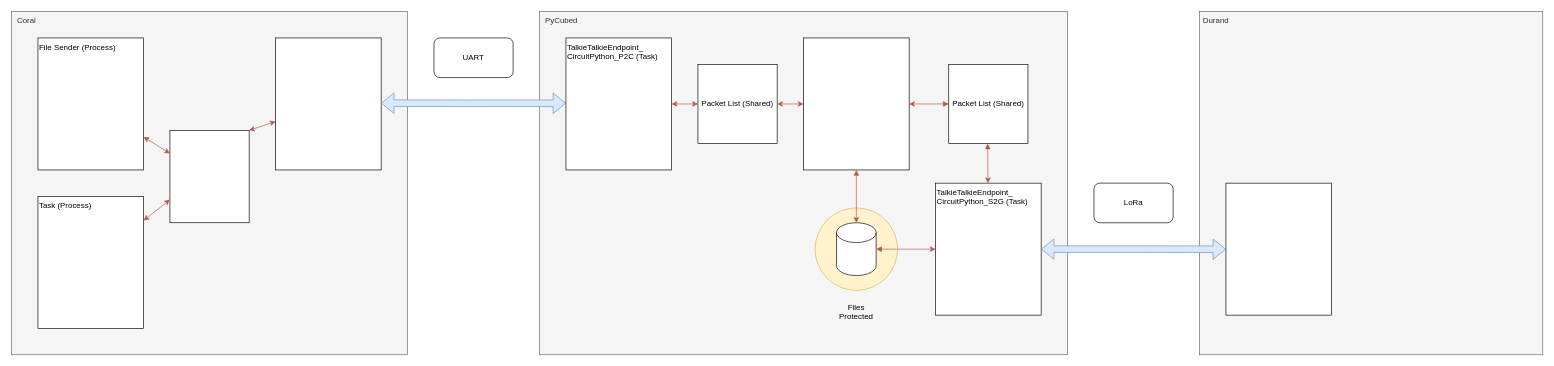
Image size: 1554x366. Some labels were removed from this diagram. Here are the shapes that lost their labels. From the top down, the centre of each, then its label:
the point at 328,103: TalkieTalkieEndpoint_Linux (Process)
the point at 856,103: CD&H (Task)
the point at 209,176: Packet Queue
the point at 856,249: SD
the point at 1278,248: TalkieTalkieEndpoint_G2S (Task)
